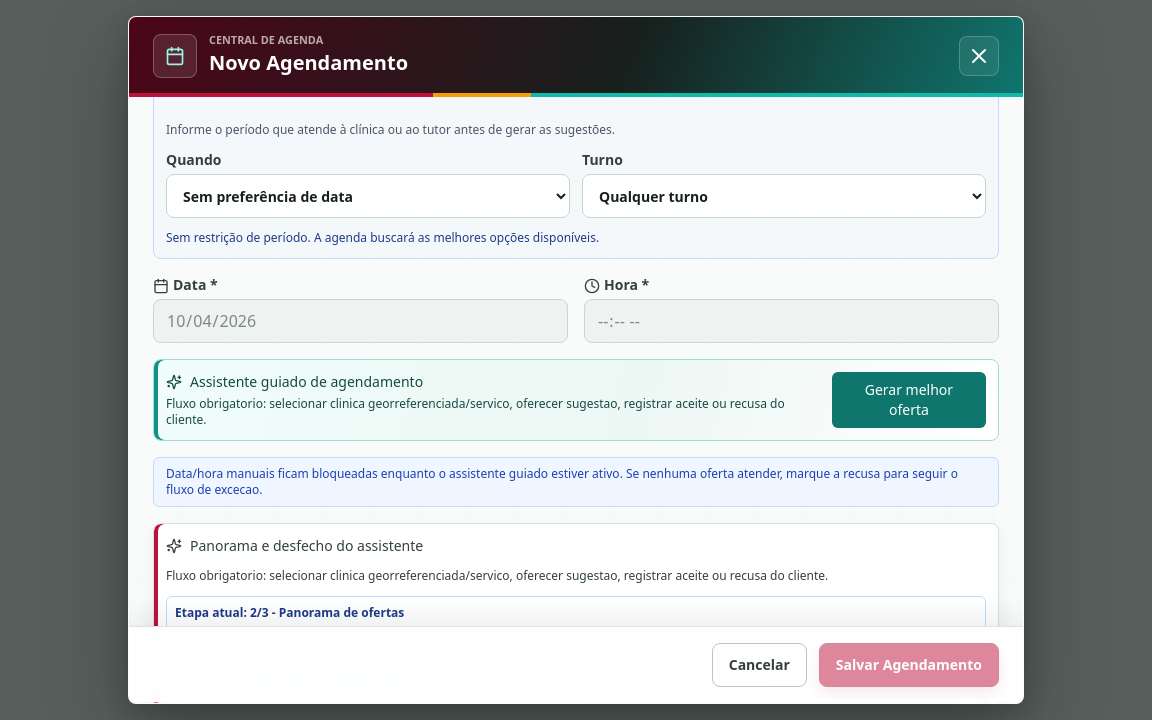
Test: preferências antes das ofertas › separa o trajeto desde casa do deslocamento entre atendimentos
This screenshot has width=1152, height=720.
(page scrolled)
What coordinates should you click on to do the following:
click the button "Gerar melhor oferta"
I would click on:
 (909, 400)
Its box is [832,372,986,428].
(page scrolled)
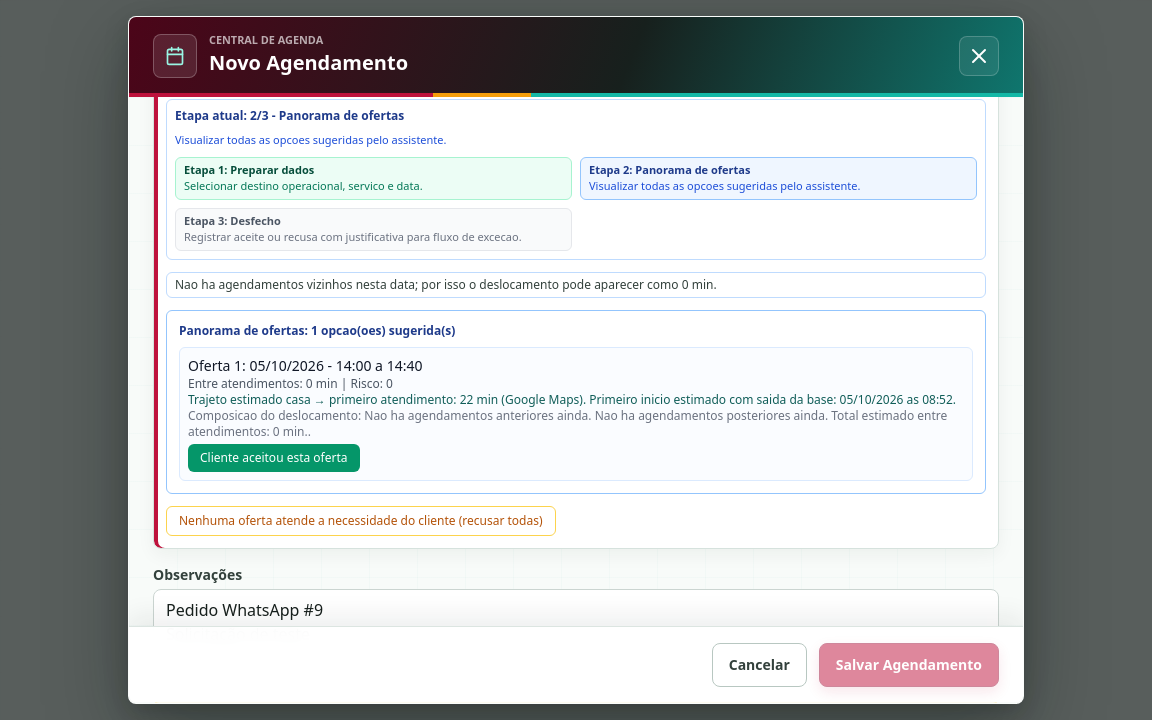
Expected: the text "Entre atendimentos: 0 min | Risco: 0" is shown, [188,374,393,392]
Expected: the text "Primeiro inicio estimado com saida da base: 05/10/2026 as 08:52" is shown, [188,390,956,408]
